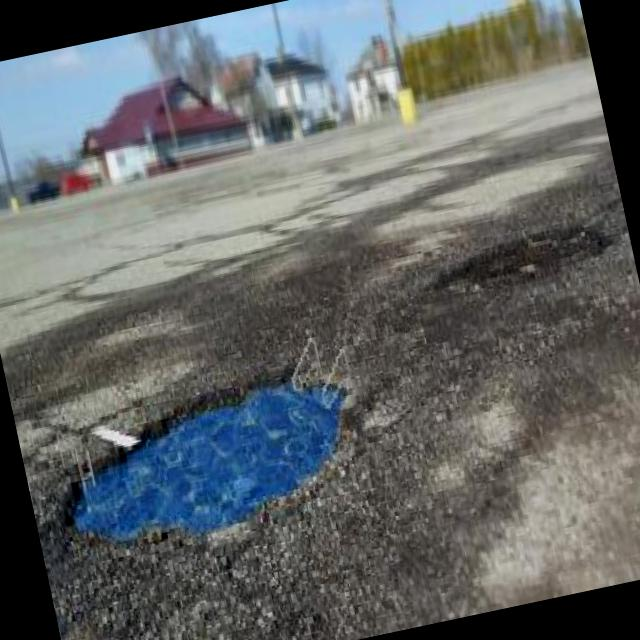Lubang: (73, 386, 342, 541), (434, 217, 611, 295)
